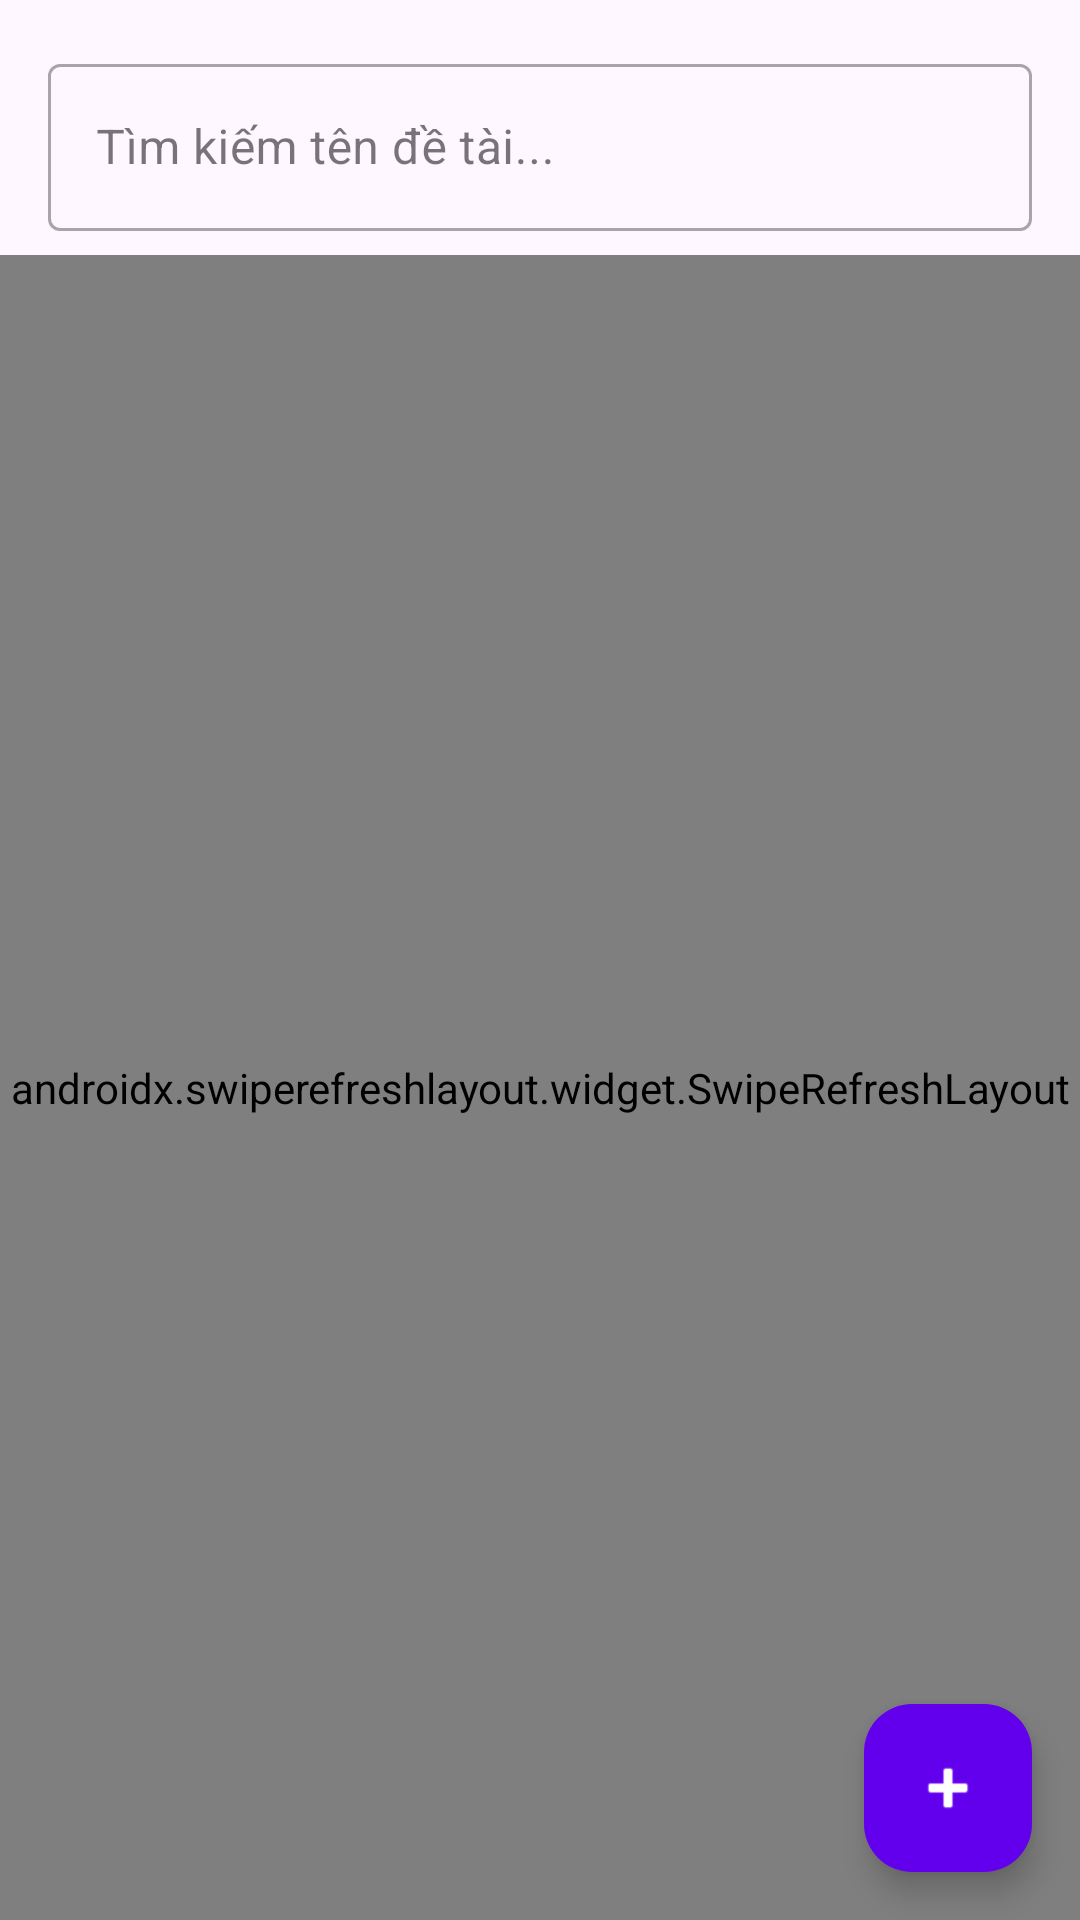

Icon bounding boxes for this 1080×1920 phone screenshot, format (x1, y1, x2, y2):
Thêm đề tài mới: (864, 1704, 1032, 1872)
